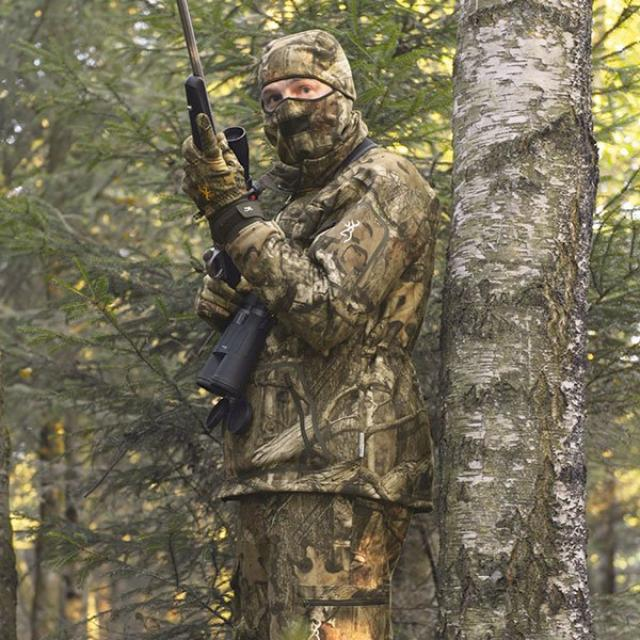Human: (176, 1, 430, 640)
